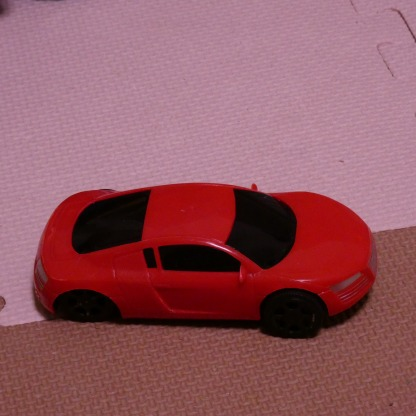car: (31, 179, 375, 343)
